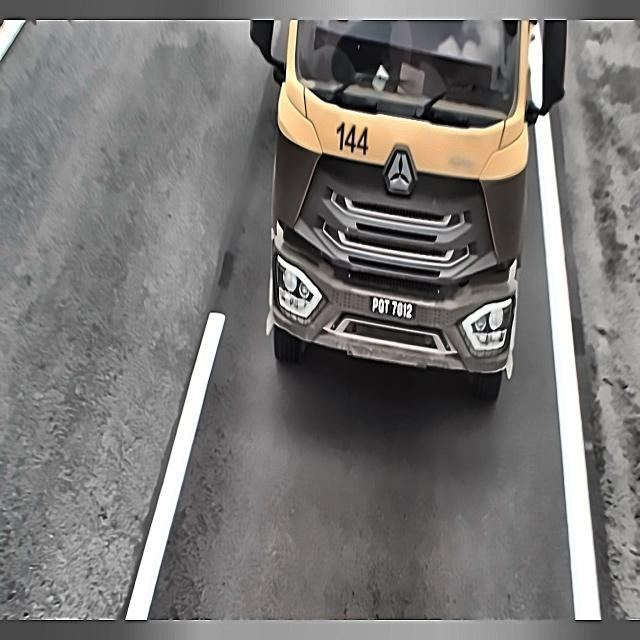car: (364, 288, 419, 327)
